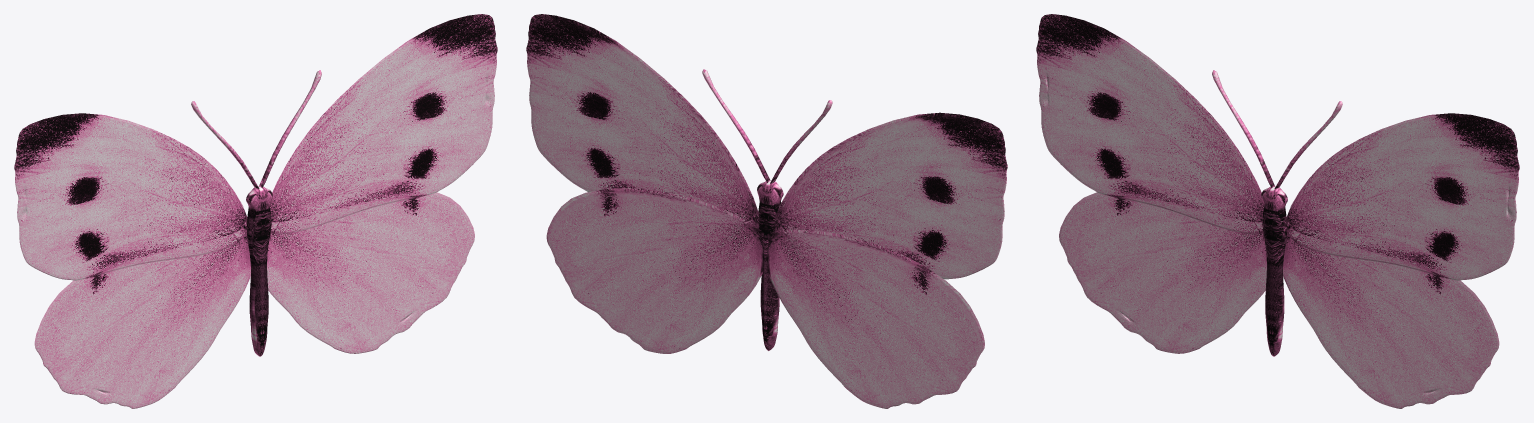
File: butterflybaked.glb
3 views of the same model, side by side, from view 1: azimuth 30°, elevation 25°; view 2: azimuth 150°, elevation 25°; view 3: azimuth 330°, elevation 25° (orthographic).
Visible parts, largest first — view 1: wings, butterfly; view 2: wings, butterfly; view 3: wings, butterfly.
Boxes of the visible parts, box(x1,y1,x2,y2) form: wings: box(14, 14, 497, 408); butterfly: box(191, 70, 321, 356); wings: box(526, 14, 1007, 408); butterfly: box(702, 69, 832, 350); wings: box(1036, 14, 1519, 408); butterfly: box(1212, 70, 1342, 356).
Size of the model in its own units: 4.97 by 3.08 by 0.1762.
Materials: 1 (1 with a texture image).
